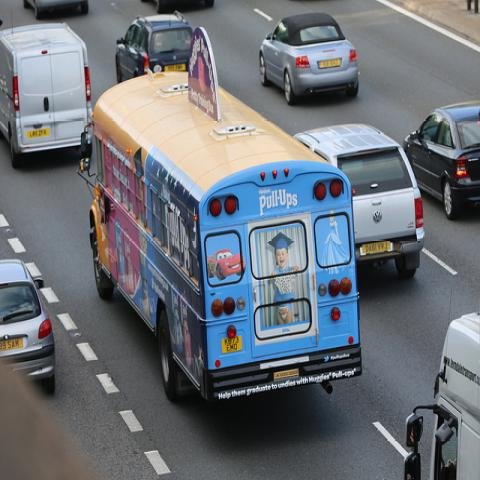bus: (80, 28, 362, 401), (400, 307, 479, 479)
car: (293, 122, 426, 280), (254, 10, 361, 110), (403, 100, 479, 220), (1, 257, 56, 400), (116, 11, 193, 82), (23, 0, 89, 20)
truck: (405, 312, 479, 474), (1, 19, 88, 154)
